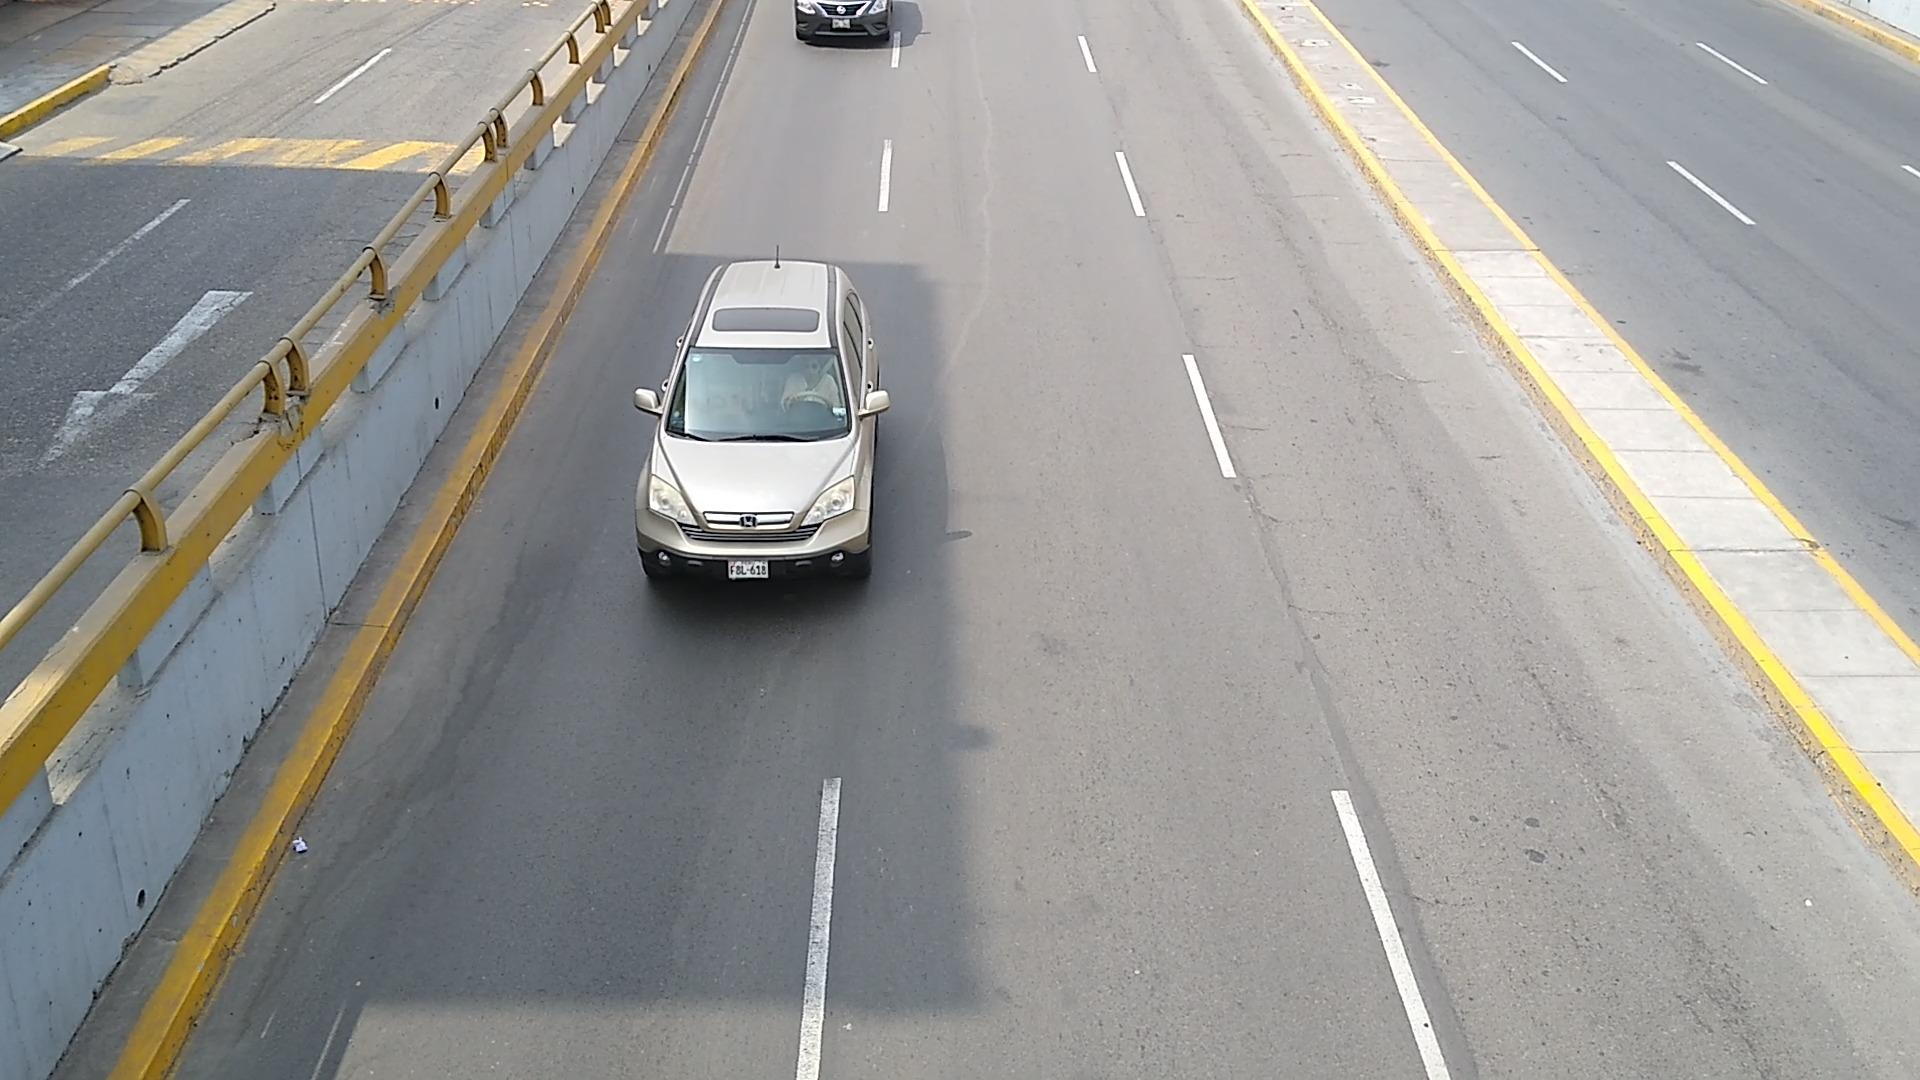car: (634, 258, 893, 579), (795, 0, 893, 41)
